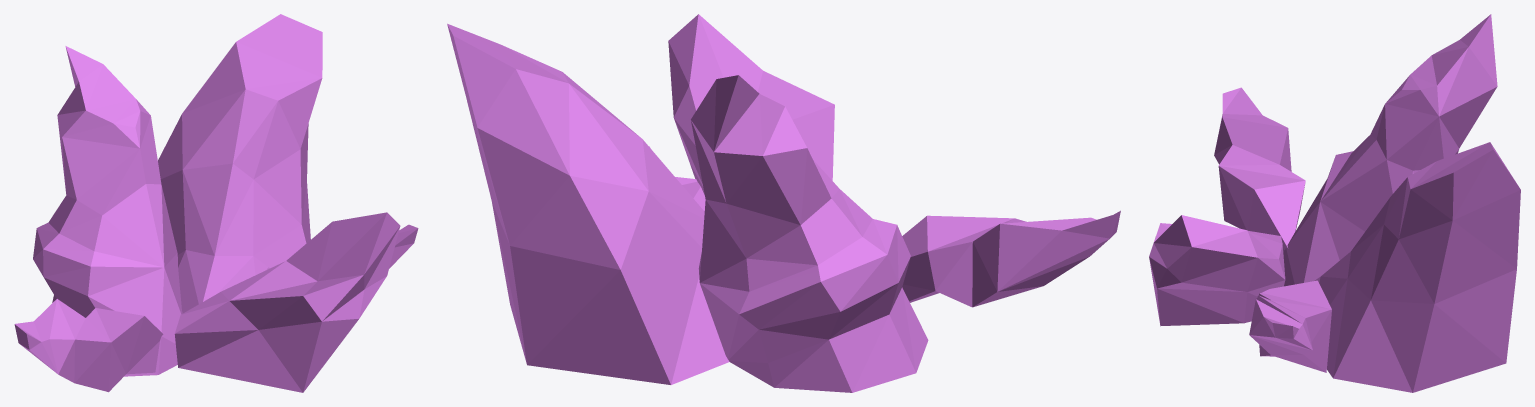
The model's file is _crystal_2.fbx.
The picture shows the model from 3 angles, left to right: view 1: azimuth 30°, elevation 25°; view 2: azimuth 150°, elevation 25°; view 3: azimuth 270°, elevation 25°; orthographic projection. The views are drawn at different scales.
Visible parts, largest first — view 1: crystal_2; view 2: crystal_2; view 3: crystal_2.
Boxes of the visible parts, x1,y1,x2,y2 form: crystal_2: [14, 14, 418, 392]; crystal_2: [447, 14, 1120, 392]; crystal_2: [1149, 14, 1520, 392].
Size of the model in its own units: 145 by 84.17 by 105.
